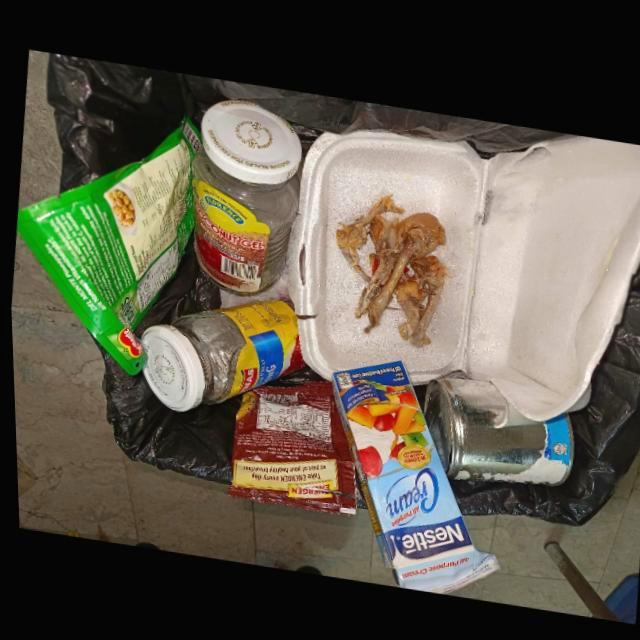aluminum: (420, 372, 571, 480)
food_wrapper: (14, 112, 201, 374)
glass_bottle: (190, 95, 301, 293), (137, 296, 303, 409)
left_over_food: (333, 189, 449, 342)
plastic_sachet: (223, 376, 353, 510)
